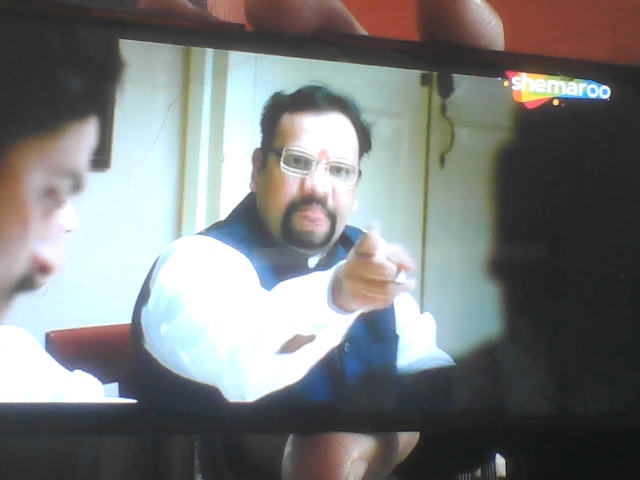fake: (246, 82, 370, 258)
